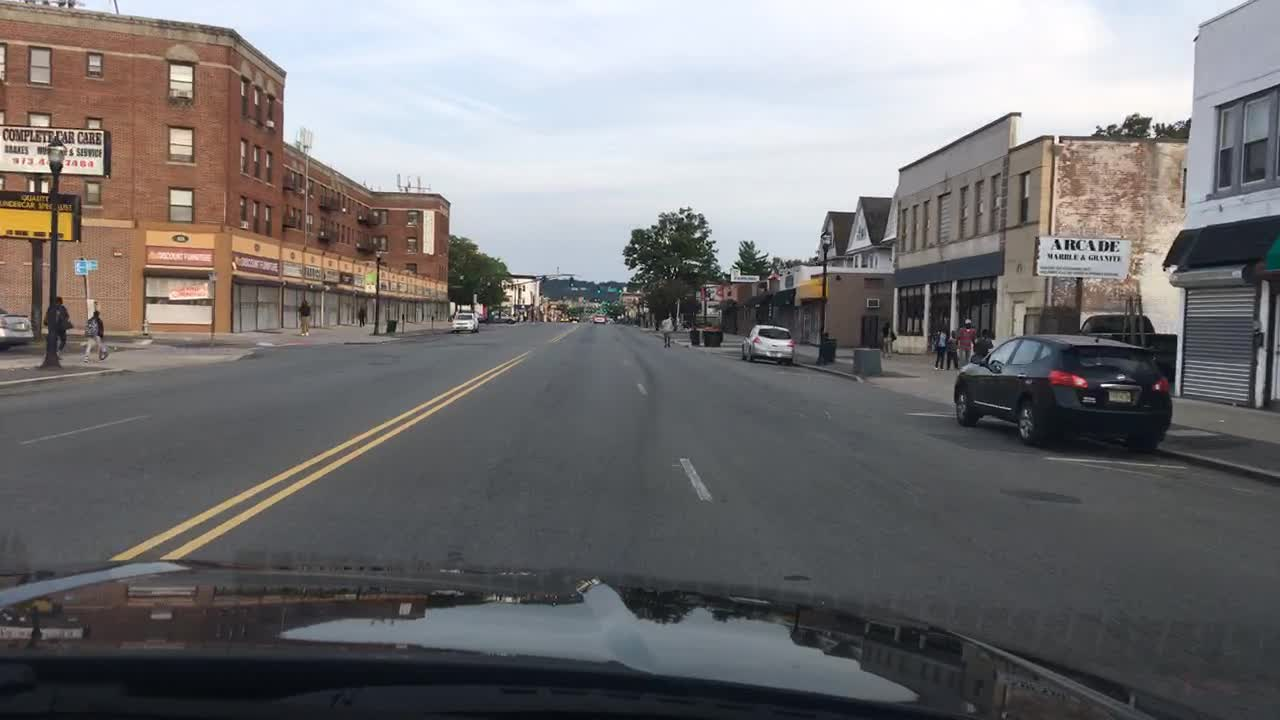car: (1076, 308, 1187, 386), (741, 322, 795, 364), (0, 304, 36, 351), (452, 309, 477, 333), (485, 309, 516, 323), (591, 310, 607, 323), (561, 317, 581, 324)
person: (41, 292, 72, 347), (81, 309, 111, 363), (955, 318, 974, 366), (971, 325, 991, 367), (296, 296, 314, 334), (657, 309, 674, 349), (880, 318, 896, 357), (946, 327, 959, 370), (934, 327, 947, 368), (355, 305, 368, 329)
traffic light: (949, 330, 1174, 453), (567, 275, 575, 291)
traffic sign: (73, 257, 93, 269)
